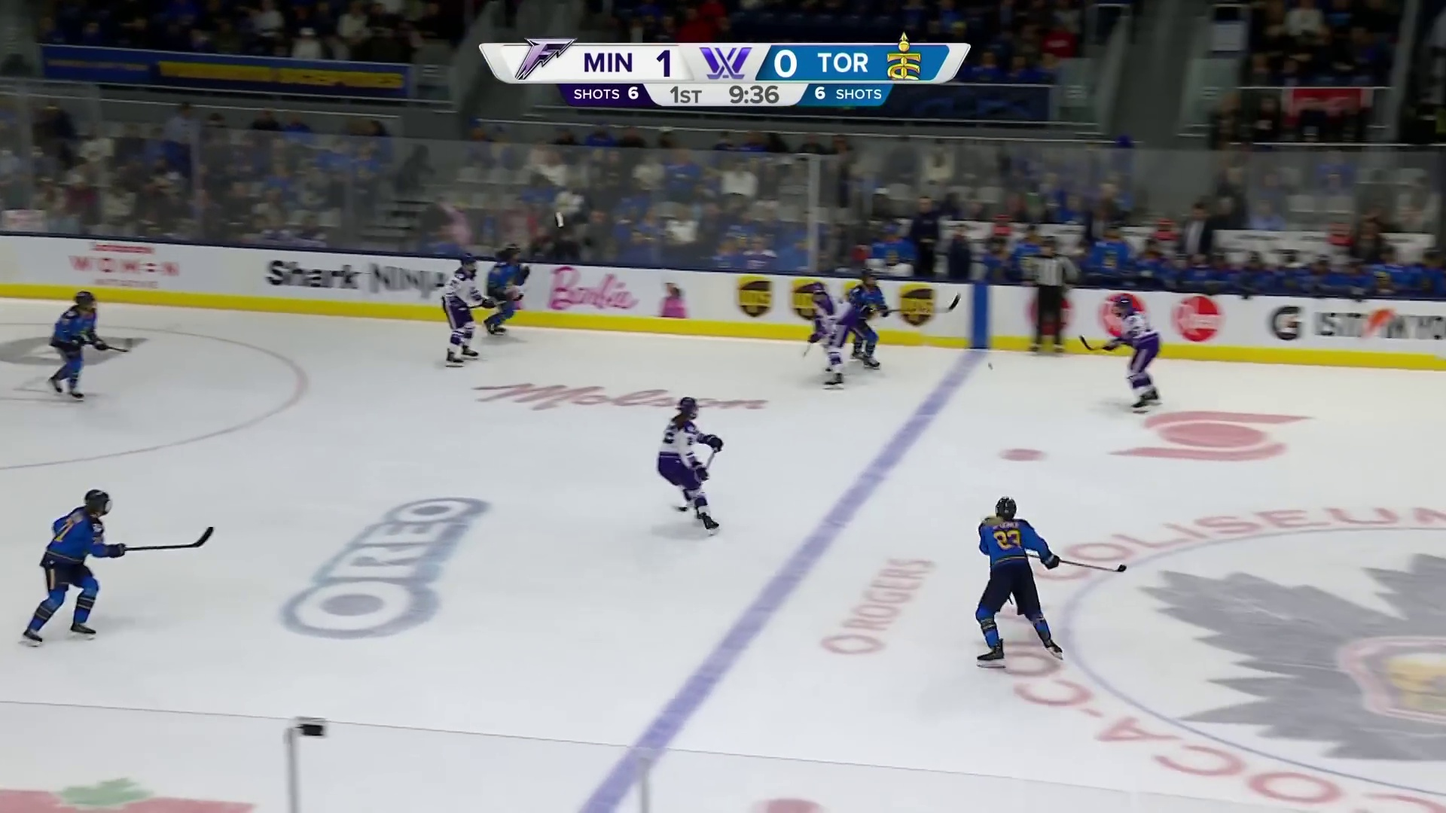player: (17, 489, 129, 648), (971, 497, 1069, 668), (656, 394, 730, 541), (1098, 294, 1165, 414), (48, 290, 110, 402), (443, 252, 495, 367), (807, 282, 858, 391), (845, 269, 893, 372), (486, 244, 534, 338)
puck: (985, 361, 997, 372)
